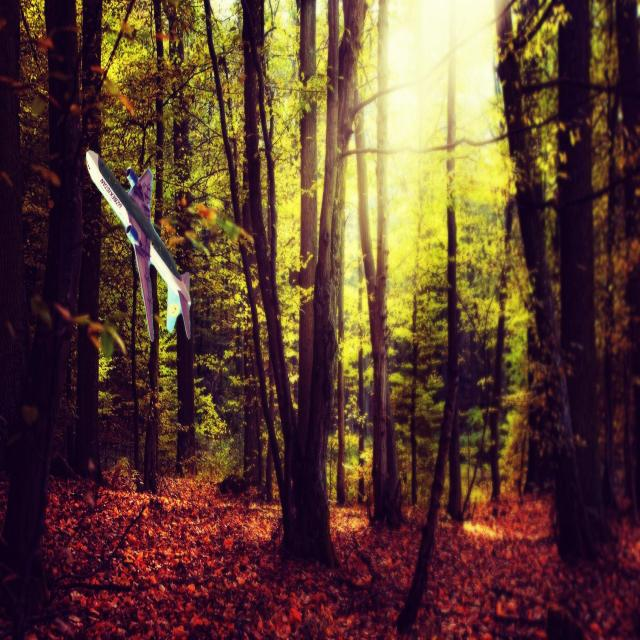airplane: (85, 148, 192, 343)
